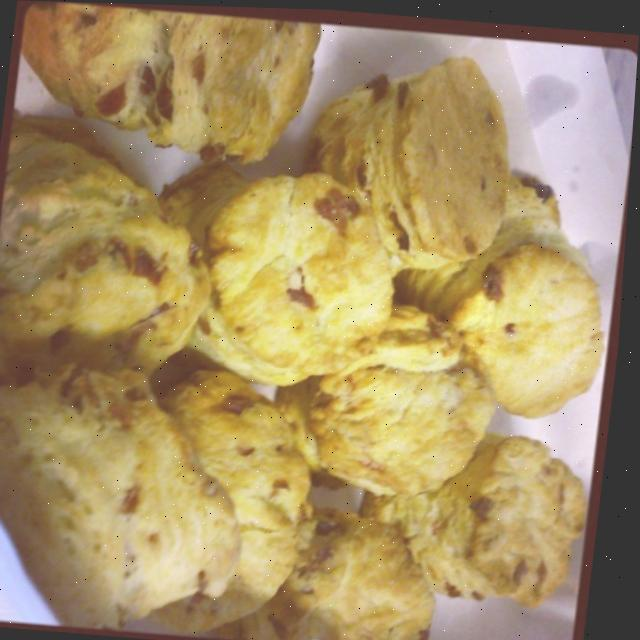面包点心: (0, 17, 619, 640)
